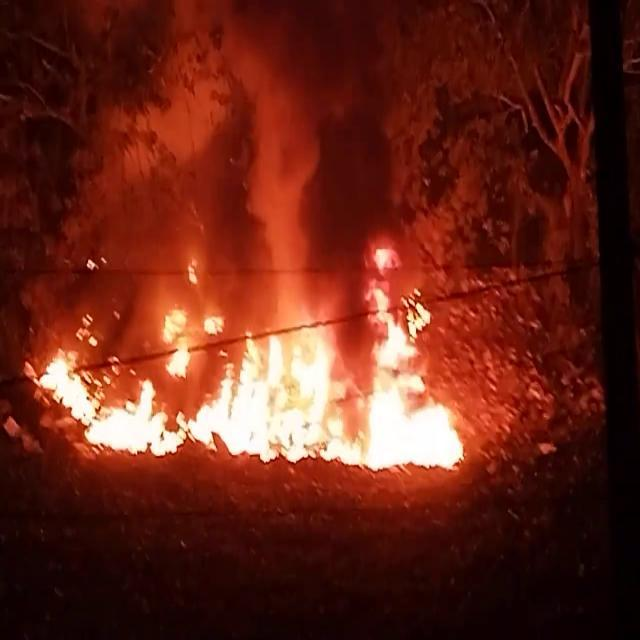Fire: (32, 248, 494, 482)
Smoke: (54, 0, 462, 277)
